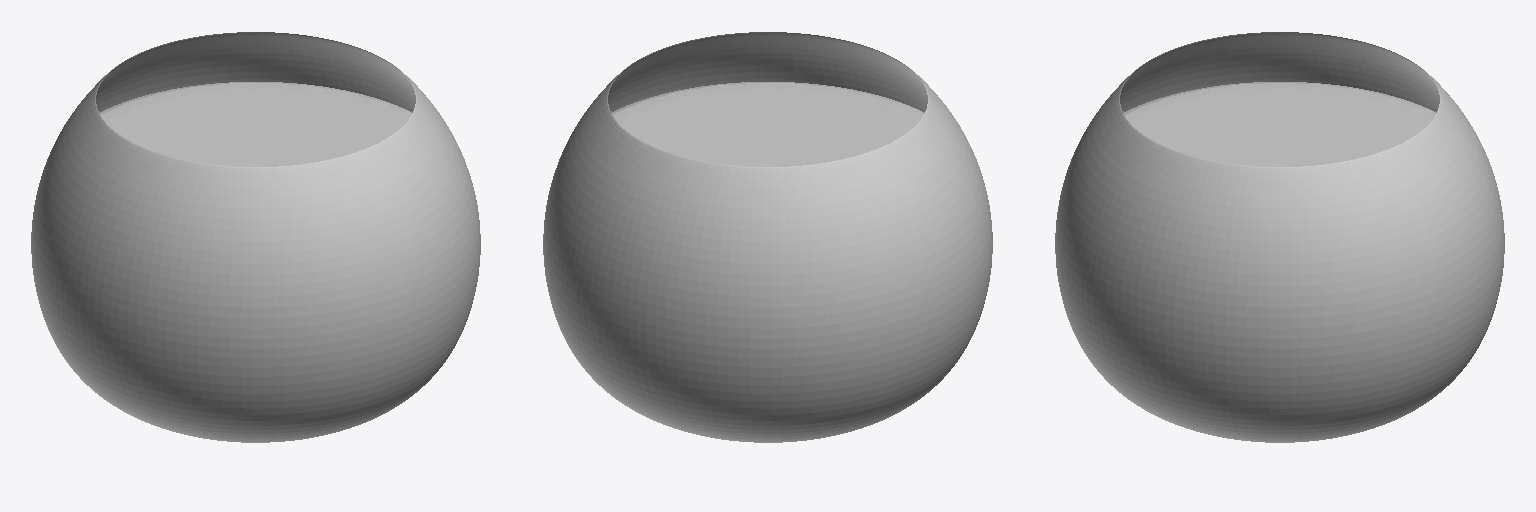
File: bowl.obj
3 renders of one model, left to right at view 1: azimuth 30°, elevation 25°; view 2: azimuth 150°, elevation 25°; view 3: azimuth 270°, elevation 25°, orthographic.
Parts seen in each view (by area): view 1: Sphere, Sphere.001; view 2: Sphere, Sphere.001; view 3: Sphere, Sphere.001.
Part boxes in pixels (x1,y1,x2,y2): Sphere: (31,32,480,442); Sphere.001: (100,82,411,166); Sphere: (543,32,992,442); Sphere.001: (612,82,923,166); Sphere: (1055,32,1504,442); Sphere.001: (1124,82,1435,166).
Bounding box in the file's own units: 1.98 × 1.52 × 1.98.